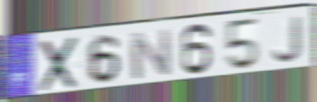5: (223, 16, 261, 72)
6: (86, 33, 123, 86), (180, 23, 213, 77)
J: (272, 14, 305, 64)
N: (128, 27, 174, 82)
X: (38, 34, 80, 94)
